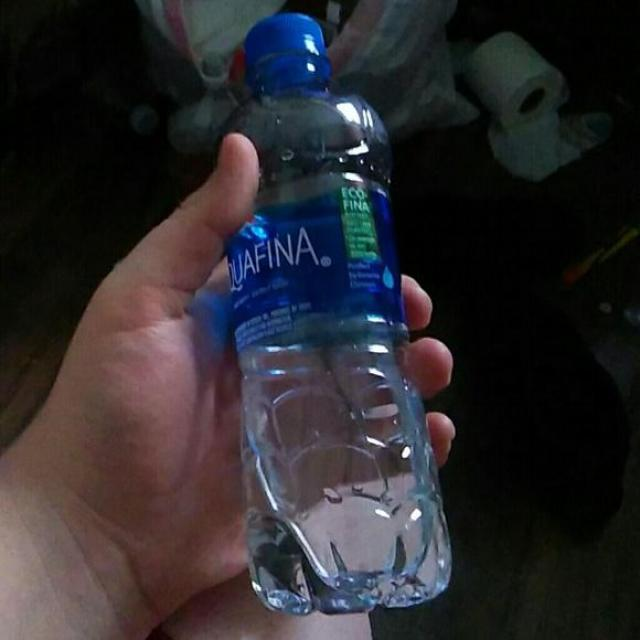bottle: (212, 8, 461, 620)
